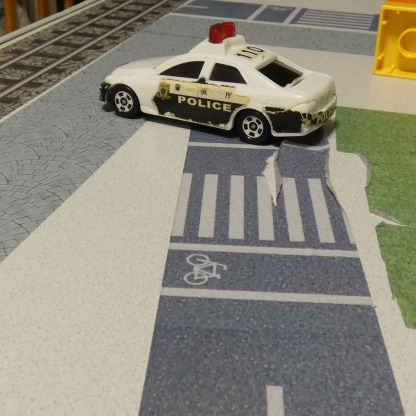car: (96, 31, 335, 146)
